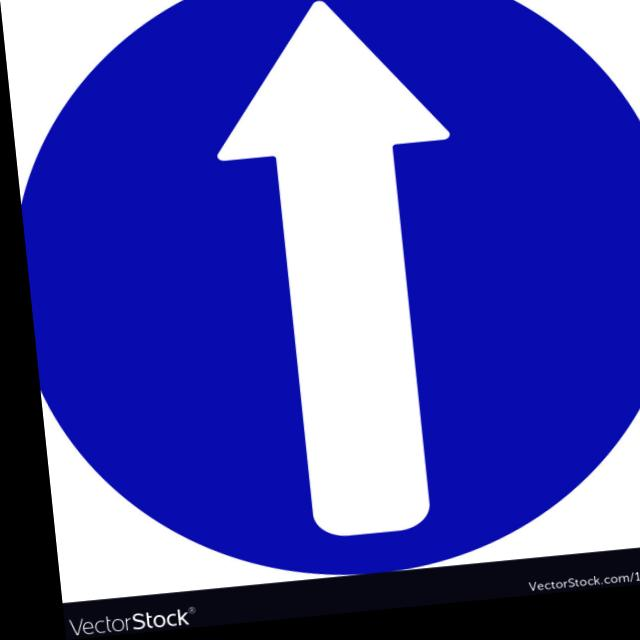COMPULSORY_AHEAD: (0, 0, 640, 603)
